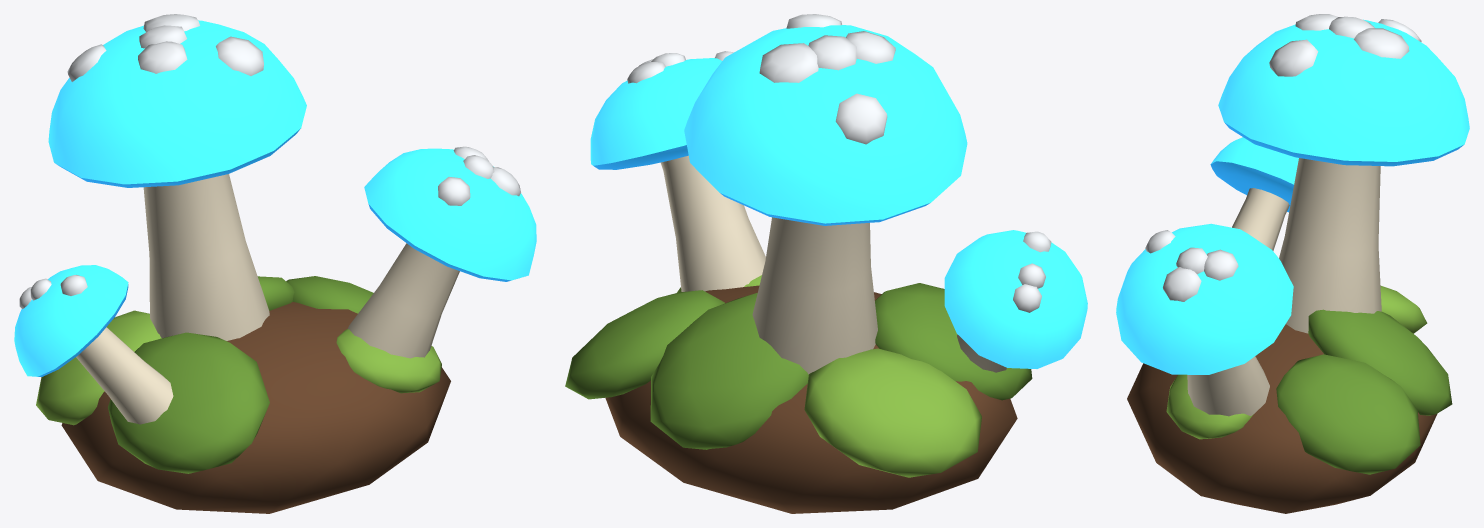
The model's file is item_glowcap.glb.
3 views of the same model, side by side, from view 1: azimuth 30°, elevation 25°; view 2: azimuth 150°, elevation 25°; view 3: azimuth 270°, elevation 25° (orthographic). The views are drawn at different scales.
Parts seen in each view (by area): view 1: Glowcap; view 2: Glowcap; view 3: Glowcap.
Part boxes in pixels (x1=…): Glowcap: x1=14, y1=14, x2=536, y2=513; Glowcap: x1=565, y1=14, x2=1087, y2=513; Glowcap: x1=1116, y1=14, x2=1469, y2=513.
Bounding box in the file's own units: 0.2946 × 0.2698 × 0.1987.
